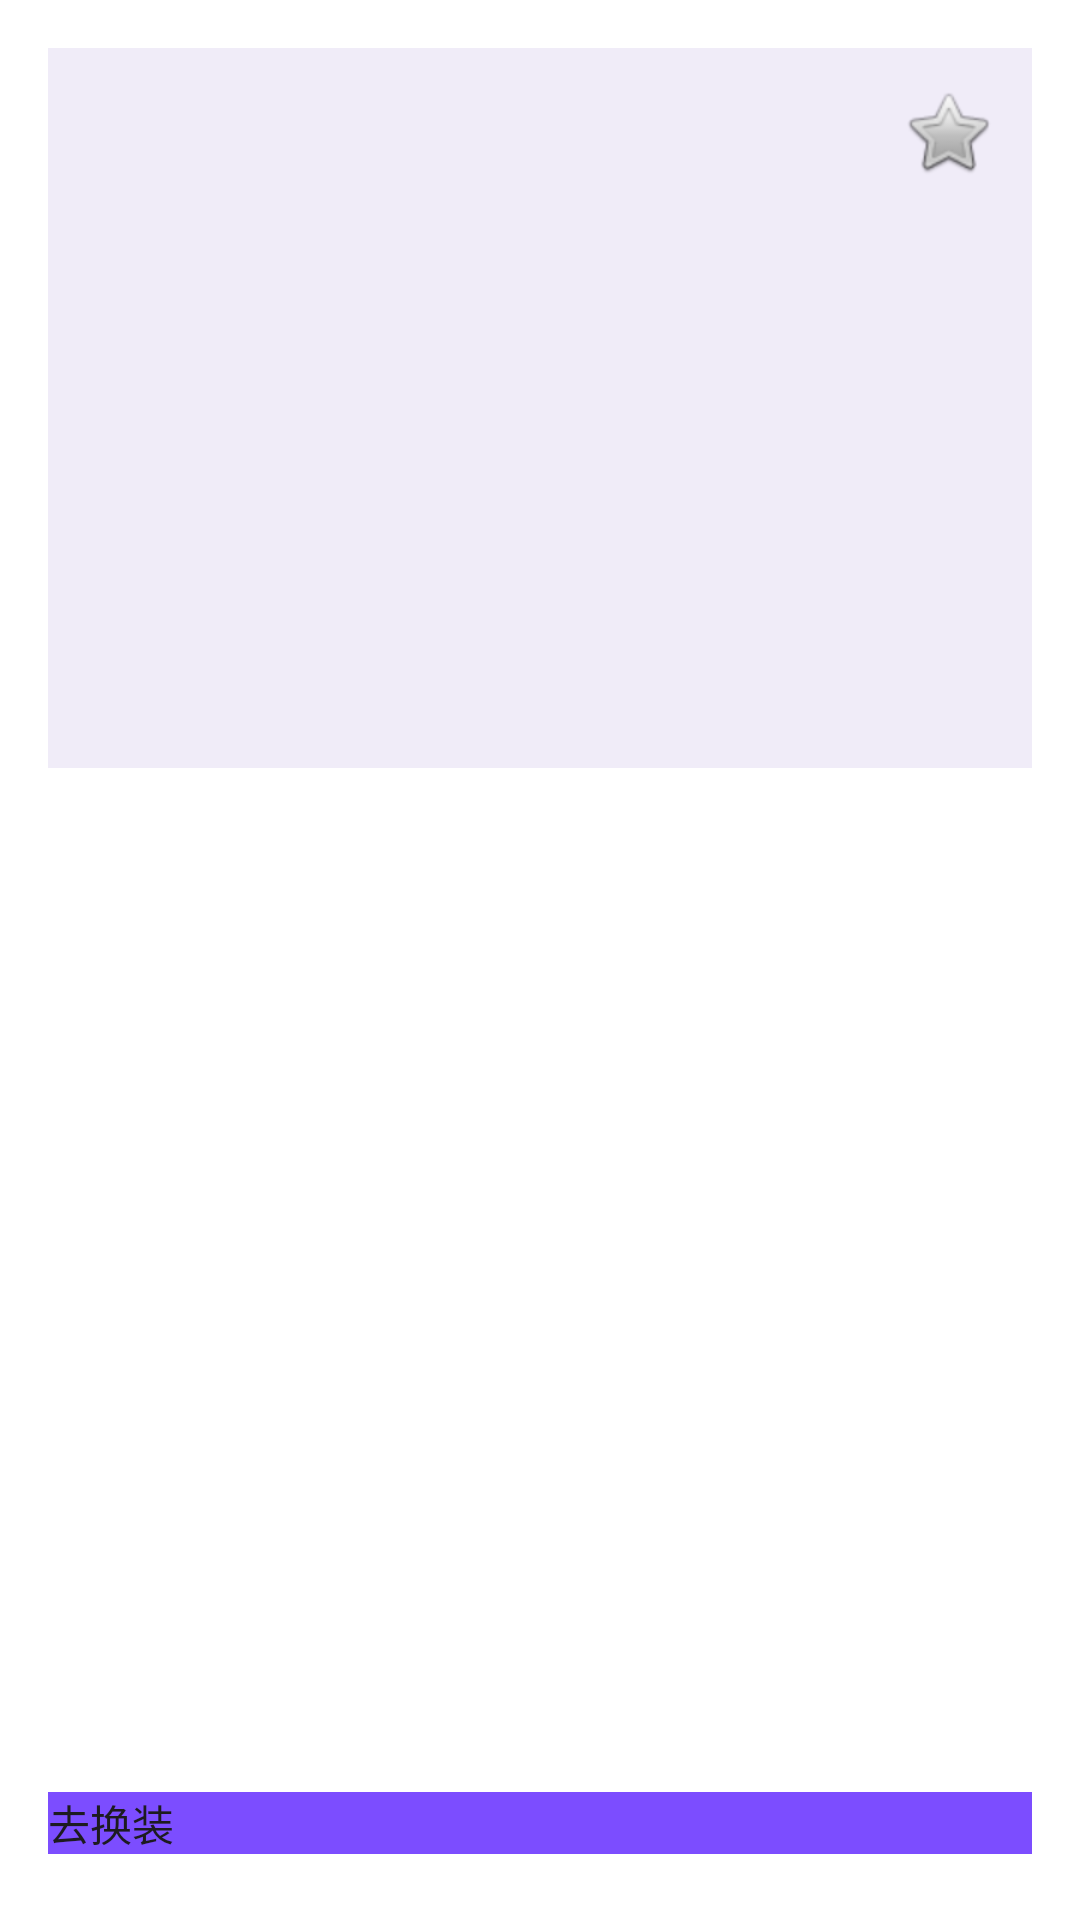

Icon click points for this 1080 × 1920 phone screenshot, format (x=x, y=y):
收藏/取消收藏: (x=949, y=133)
